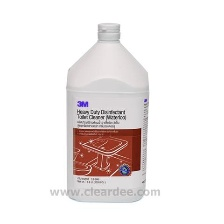cleaning_solution: (62, 20, 151, 205)
